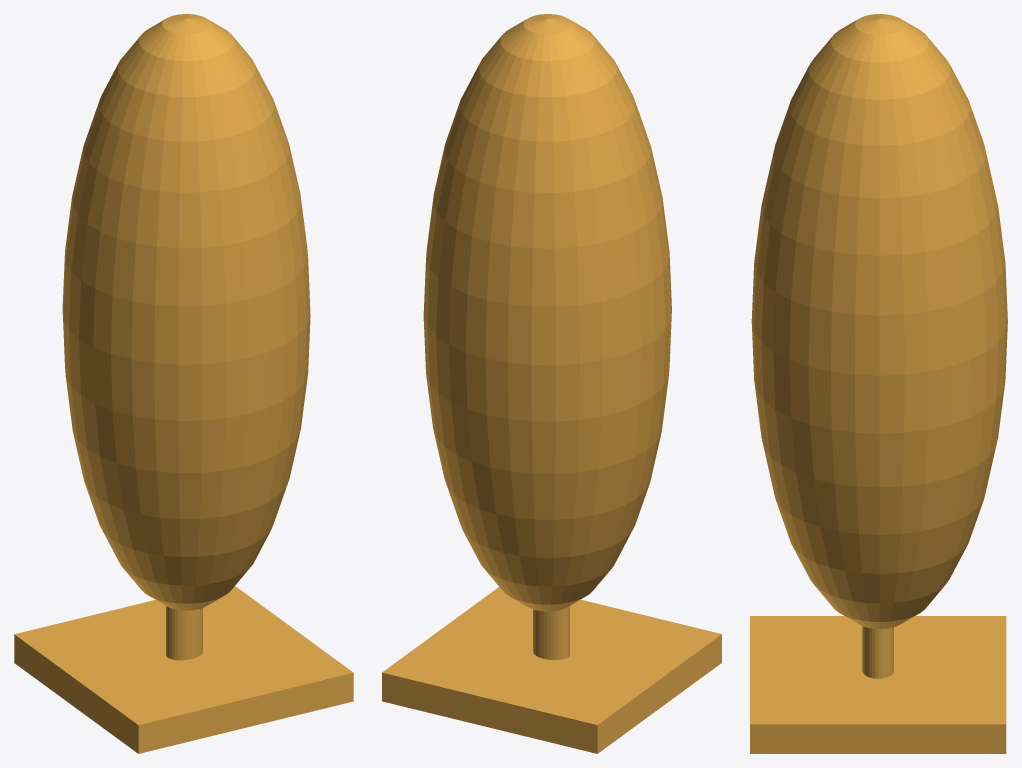
Rendered from trainingdummy.glb.
3 renders of one model, left to right at view 1: azimuth 30°, elevation 25°; view 2: azimuth 150°, elevation 25°; view 3: azimuth 270°, elevation 25°, orthographic. The views are drawn at different scales.
Visible parts, largest first — view 1: Cube; view 2: Cube; view 3: Cube.
Part boxes in pixels (box(x1,y1,x2,y2)): Cube: box(14, 14, 353, 753); Cube: box(382, 14, 721, 753); Cube: box(750, 14, 1007, 753).
Size of the model in its own units: 203 by 588 by 201.
